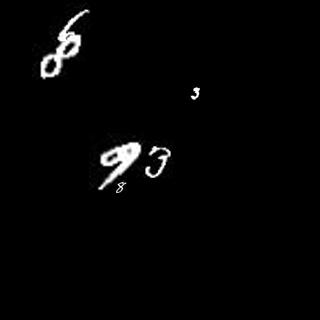eight: (35, 40, 85, 81), (113, 179, 128, 194)
nine: (94, 144, 124, 188)
six: (54, 10, 90, 43)
three: (144, 146, 172, 179), (188, 83, 202, 103)
